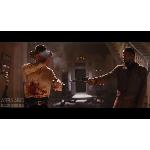Pistol: (63, 76, 99, 86), (50, 78, 62, 92)
